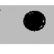correct: (22, 8, 47, 33)
